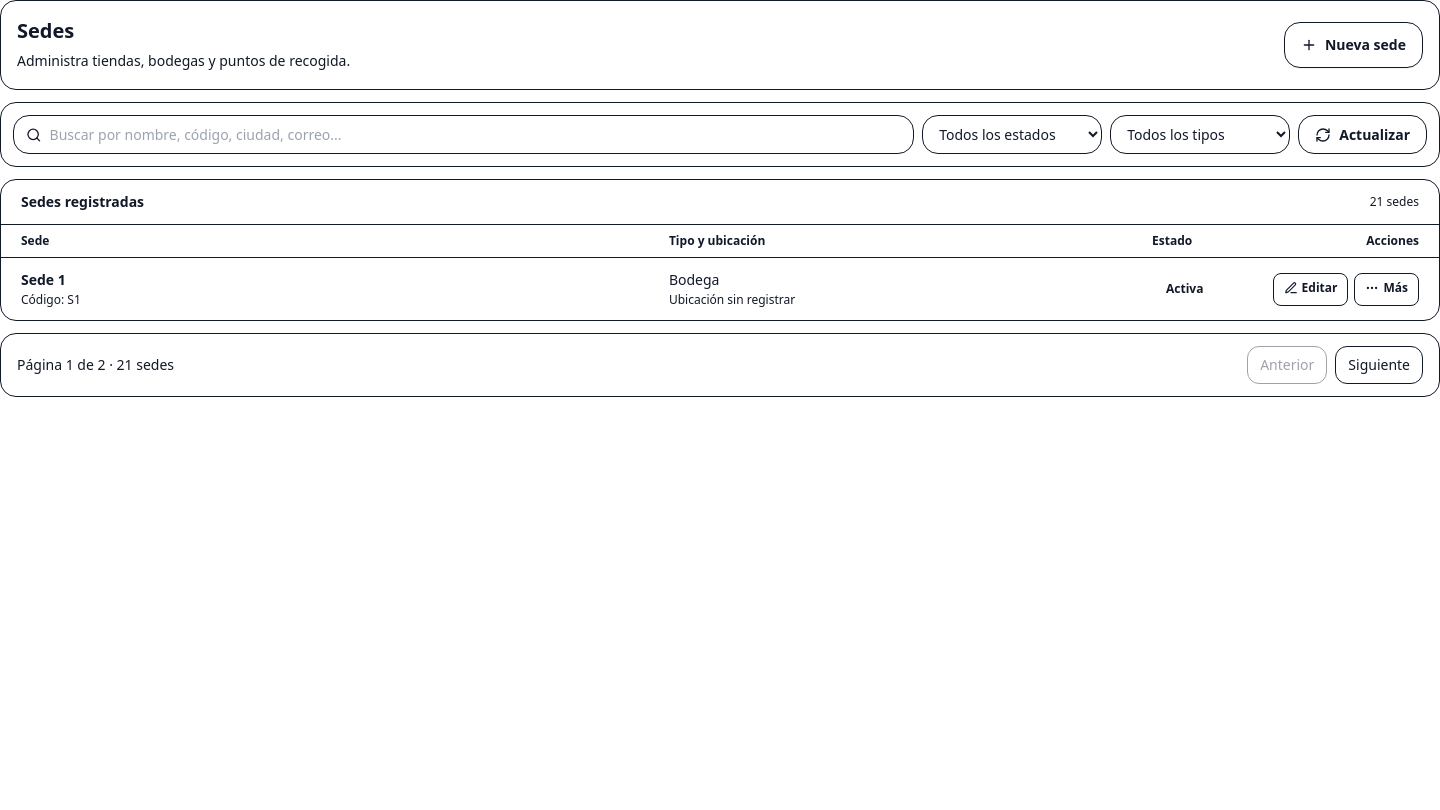
Test: muestra que el historial impide eliminar la sede sin ocultar la opción de desactivarla
Click the button with aria-label "Opciones de Sede 1": (1387, 289) [1354,272,1419,306]
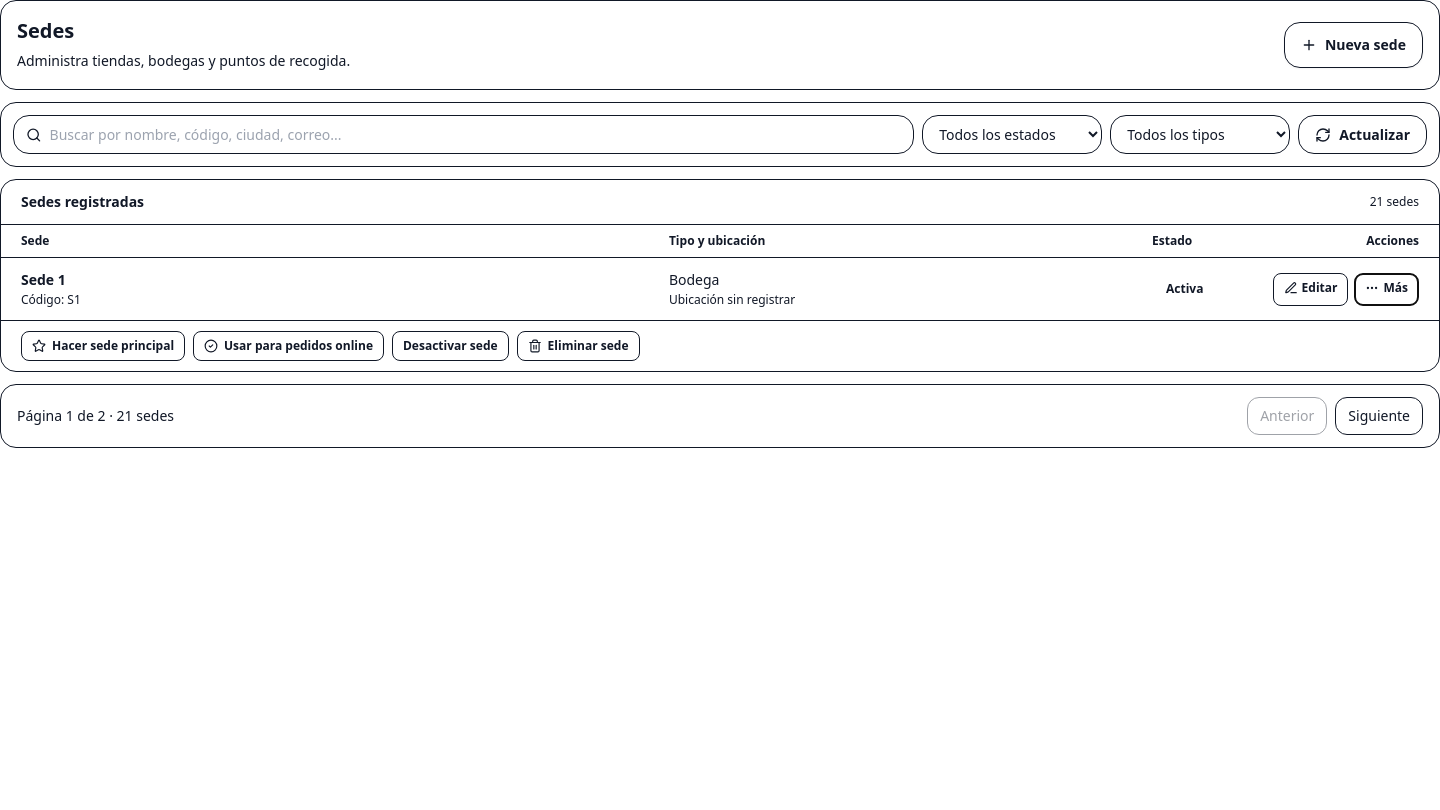
Click the button with aria-label "Eliminar Sede 1": (578, 346) [517,331,640,361]
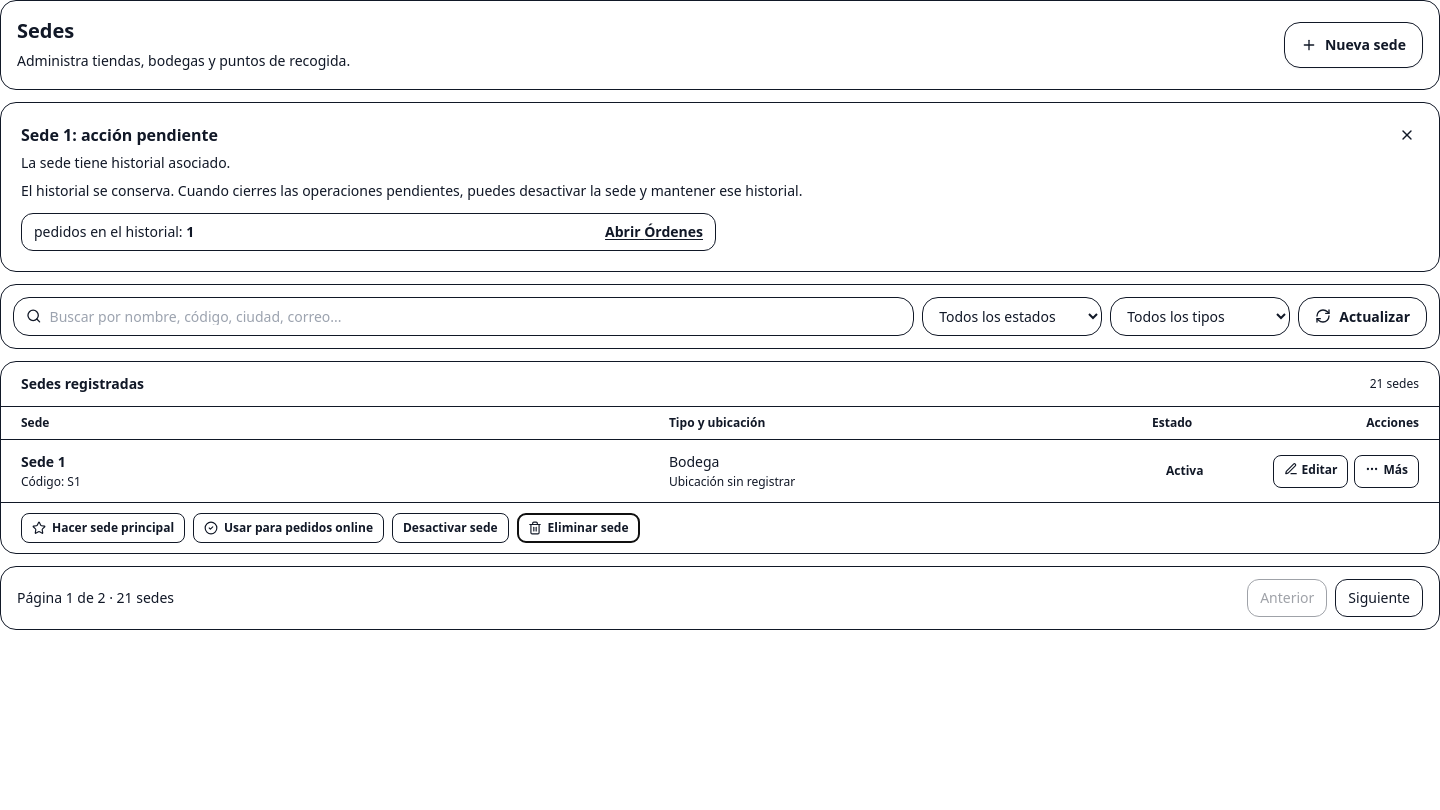
Expected: the message named "Sede con pendientes" shows "pedidos en el historial: 1", [0,102,1439,272]
Expected: the message named "Sede con pendientes" shows "puedes desactivar la sede", [21,181,802,200]
